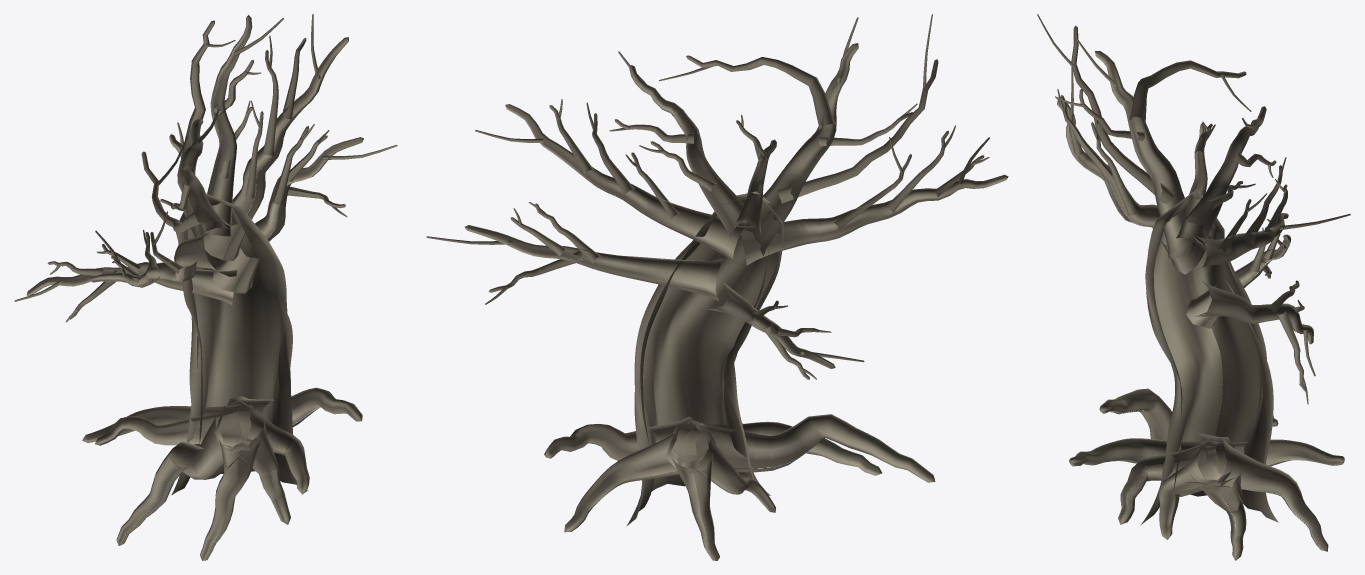
Rendered from 04-tree.glb.
3 views of the same model, side by side, from view 1: azimuth 30°, elevation 25°; view 2: azimuth 150°, elevation 25°; view 3: azimuth 270°, elevation 25° (orthographic). The views are drawn at different scales.
Parts seen in each view (by area): view 1: root (×7), trunk, limb_R, limb_cR, limb_lowR, limb_farL, twig_upL (×2), limb_upL, limb_lowL, twig_R (×3), twig_lowR; view 2: trunk, root (×6), limb_lowR, limb_R, limb_farL, limb_upL, twig_upL (×2), limb_cR, limb_lowL, limb_mid; view 3: trunk, root (×8), limb_upL, twig_upL (×3), limb_farL, limb_lowR, limb_cR, limb_R, limb_lowL, twig_farL (×2), limb_mid, twig_lowR (+1 smaller).
Part boxes in pixels (x1=…): root (×7): x1=82, y1=387, x2=362, y2=560; trunk: x1=171, y1=193, x2=308, y2=495; limb_R: x1=203, y1=37, x2=348, y2=260; limb_cR: x1=198, y1=15, x2=252, y2=236; limb_lowR: x1=212, y1=137, x2=363, y2=293; limb_farL: x1=90, y1=231, x2=216, y2=287; twig_upL (×2): x1=141, y1=20, x2=214, y2=233; limb_upL: x1=177, y1=119, x2=233, y2=246; limb_lowL: x1=26, y1=262, x2=237, y2=304; twig_R (×3): x1=245, y1=38, x2=306, y2=198; twig_lowR: x1=272, y1=126, x2=309, y2=204; trunk: x1=626, y1=191, x2=783, y2=526; root (×6): x1=544, y1=414, x2=935, y2=560; limb_lowR: x1=464, y1=225, x2=722, y2=300; limb_R: x1=505, y1=104, x2=747, y2=262; limb_farL: x1=737, y1=174, x2=1008, y2=265; limb_upL: x1=743, y1=43, x2=858, y2=255; twig_upL (×2): x1=686, y1=55, x2=938, y2=203; limb_cR: x1=629, y1=65, x2=749, y2=240; limb_lowL: x1=705, y1=280, x2=835, y2=368; limb_mid: x1=736, y1=139, x2=776, y2=235; trunk: x1=1141, y1=188, x2=1278, y2=524; root (×8): x1=1069, y1=388, x2=1344, y2=560; limb_upL: x1=1095, y1=51, x2=1211, y2=259; twig_upL (×3): x1=1071, y1=25, x2=1246, y2=203; limb_farL: x1=1057, y1=100, x2=1206, y2=274; limb_lowR: x1=1195, y1=281, x2=1313, y2=344; limb_cR: x1=1182, y1=106, x2=1266, y2=238; limb_R: x1=1196, y1=213, x2=1288, y2=268; limb_lowL: x1=1186, y1=234, x2=1291, y2=328; twig_farL (×2): x1=1061, y1=96, x2=1137, y2=215; limb_mid: x1=1176, y1=123, x2=1207, y2=243; twig_lowR: x1=1276, y1=310, x2=1306, y2=391.
Bounding box in the file's own units: 4.04 × 4.13 × 2.58.
